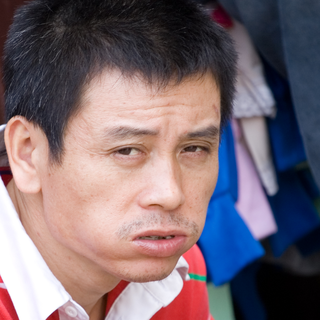eye: (103, 140, 152, 164), (176, 135, 213, 160)
